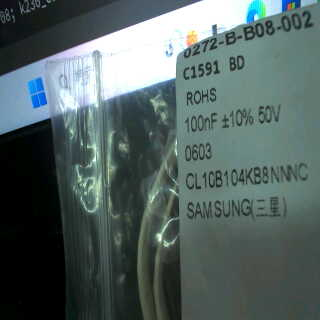100nF: (179, 110, 218, 138)
